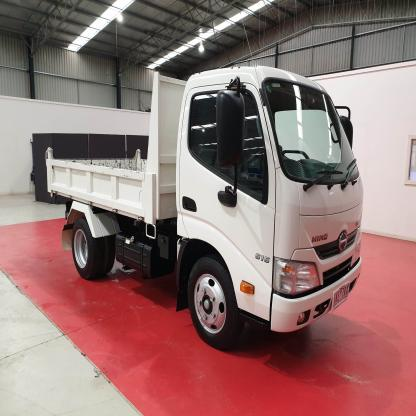dump_truck: (44, 59, 366, 362)
